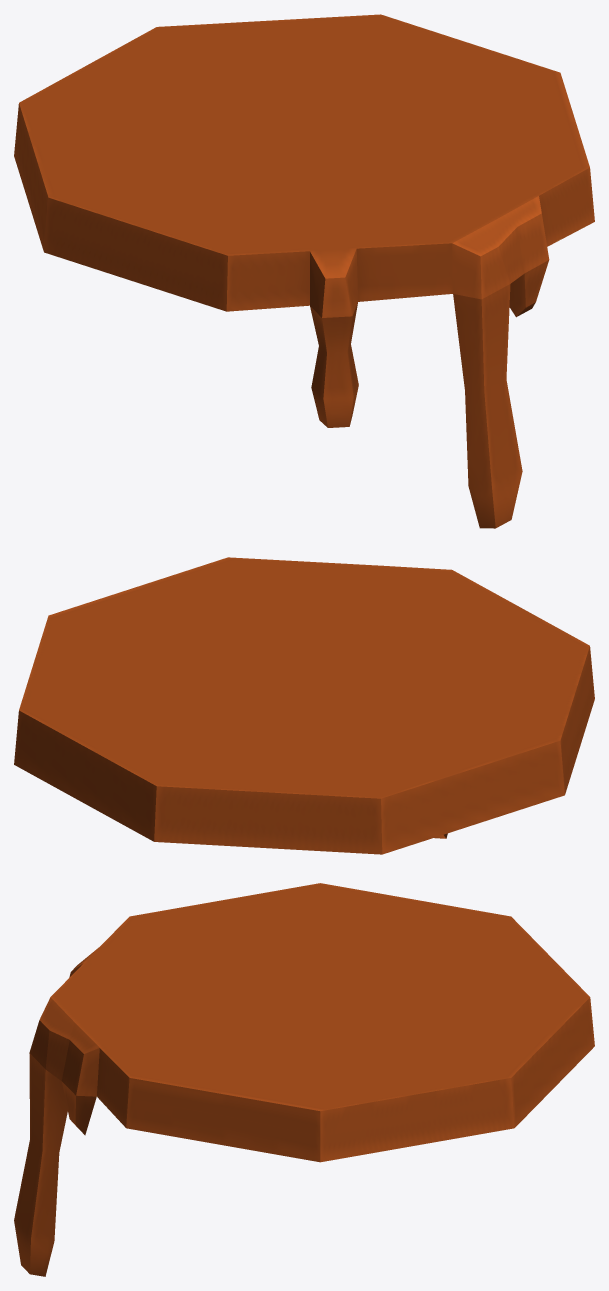
The model's file is FlanOnly.obj.
3 views of the same model, one above another, from view 1: azimuth 30°, elevation 25°; view 2: azimuth 150°, elevation 25°; view 3: azimuth 270°, elevation 25° (orthographic). The views are drawn at different scales.
Visible parts, largest first — view 1: FlanOnly_mesh; view 2: FlanOnly_mesh; view 3: FlanOnly_mesh.
Boxes of the visible parts, x1,y1,x2,y2 form: FlanOnly_mesh: (14, 14, 594, 528); FlanOnly_mesh: (14, 557, 594, 854); FlanOnly_mesh: (14, 883, 594, 1276).
Bounding box in the file's own units: 0.9453 × 0.4873 × 1.
Materials: 1 (1 with a texture image).
